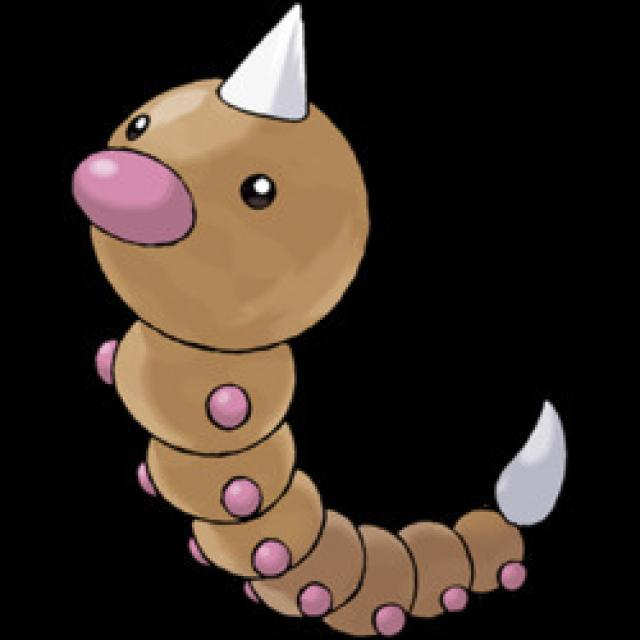Weedle: (76, 0, 568, 640)
